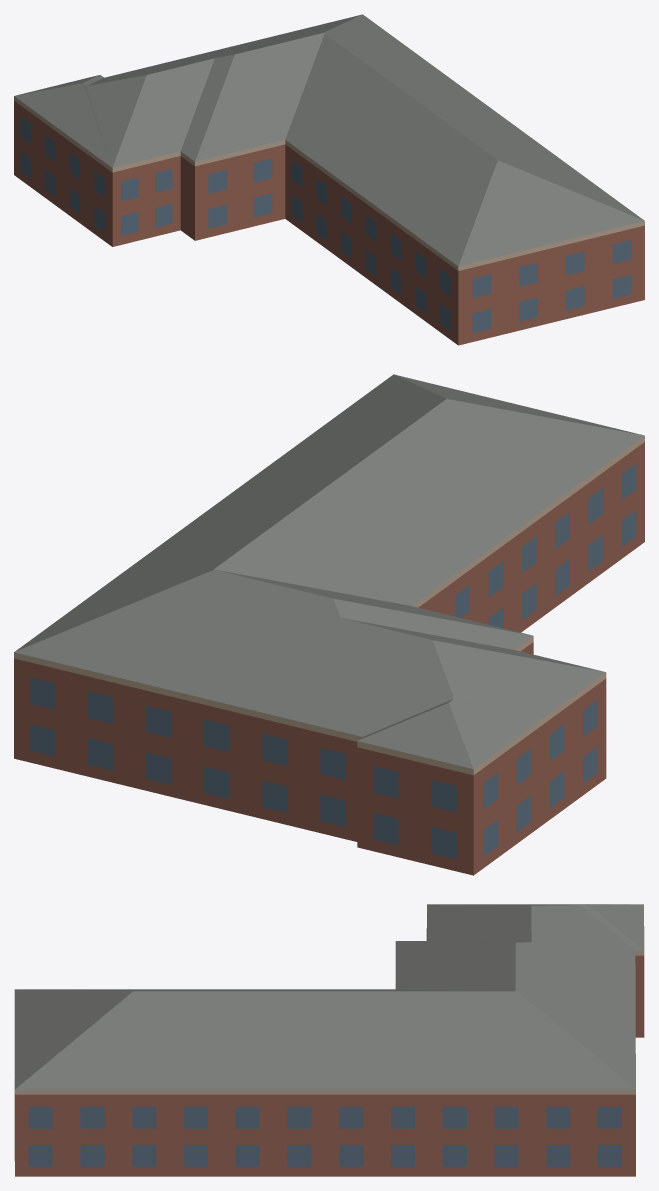
The model's file is dc-au-roper-hall.glb.
3 renders of one model, top to bottom at view 1: azimuth 30°, elevation 25°; view 2: azimuth 150°, elevation 25°; view 3: azimuth 270°, elevation 25°, orthographic. The views are drawn at different scales.
Visible parts, largest first — view 1: Roper Hall; view 2: Roper Hall; view 3: Roper Hall.
Boxes of the visible parts, box(x1,y1,x2,y2) form: Roper Hall: box(14, 14, 644, 345); Roper Hall: box(14, 374, 644, 875); Roper Hall: box(14, 904, 644, 1176).
Size of the model in its own units: 25.21 by 8.59 by 36.14.
